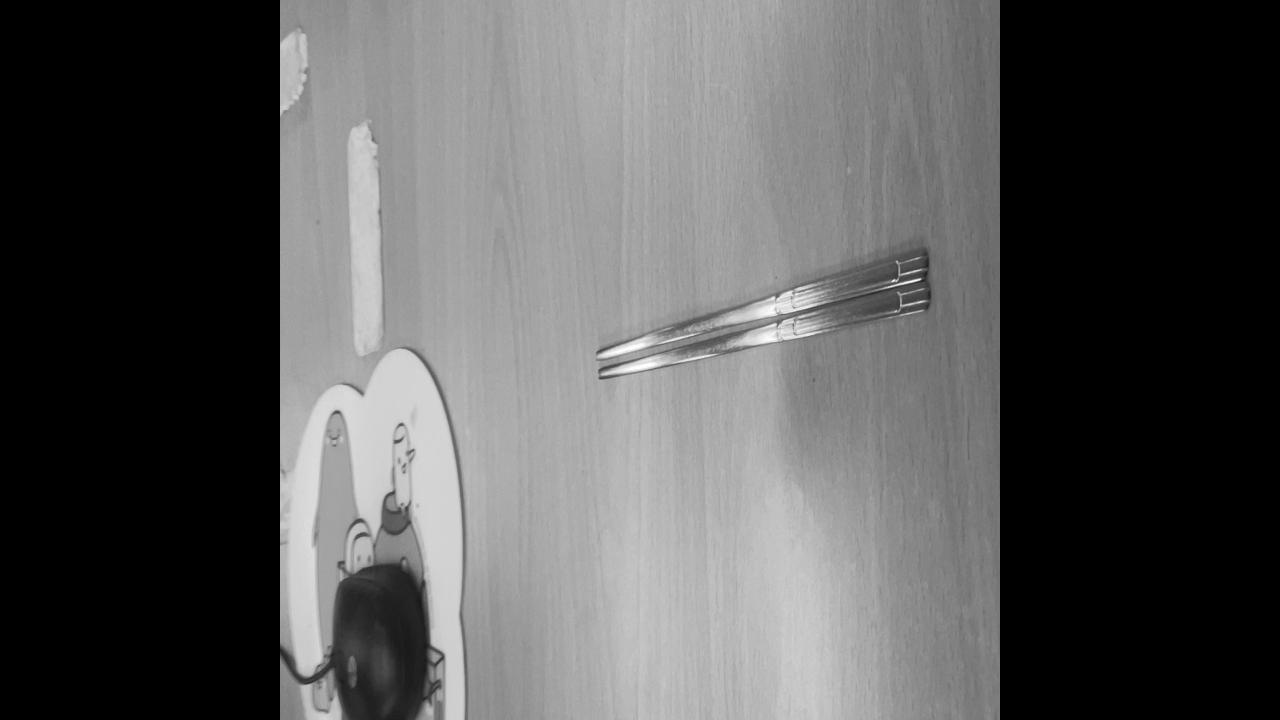chopstick: (594, 249, 936, 387)
